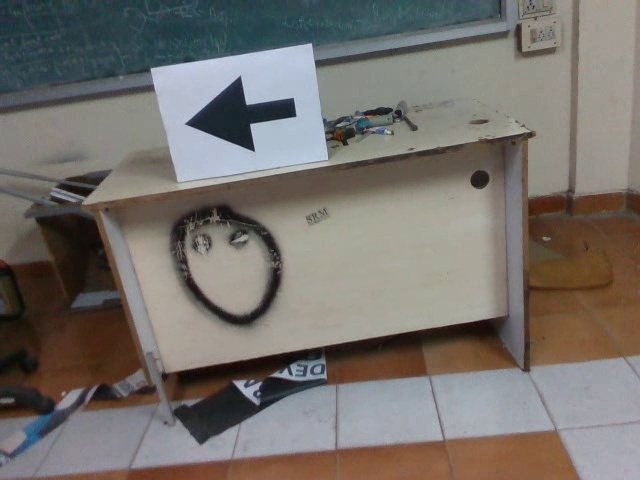Left: (180, 73, 299, 155)
